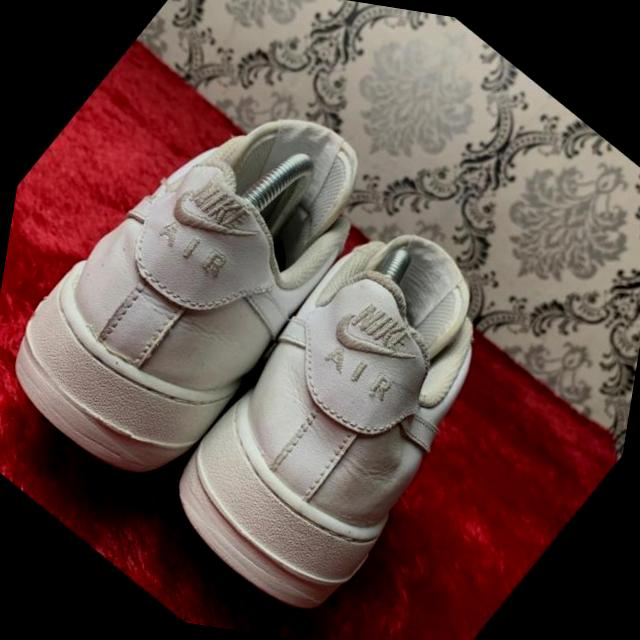nike_fake_airforce: (0, 28, 423, 539), (126, 175, 565, 640)
